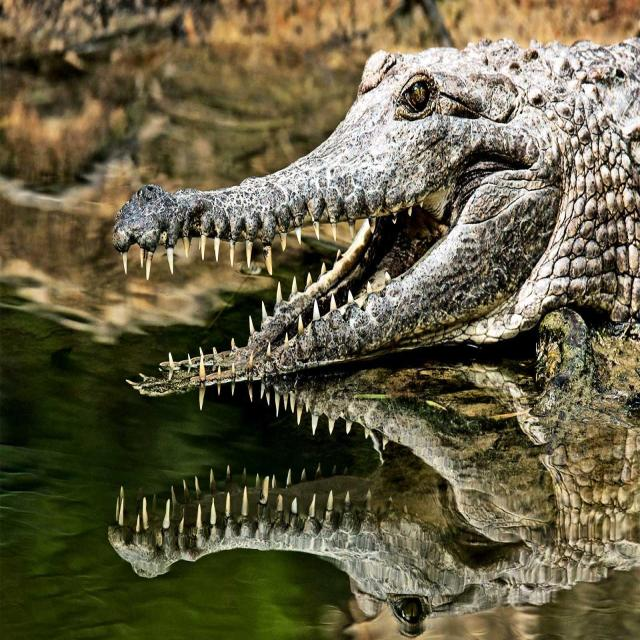crocodile: (84, 0, 640, 453)
